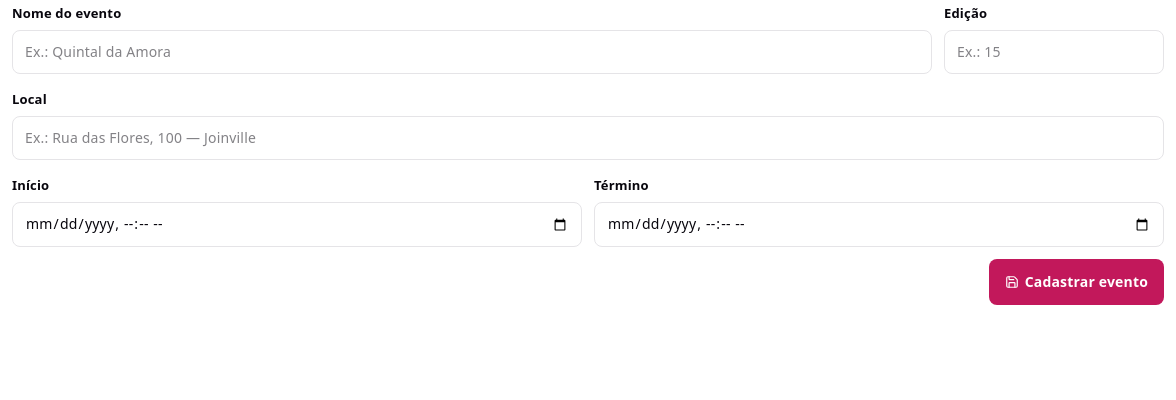
EventForm › cadastra o evento quando ainda não existe nenhum
Type "  Quintal da Amora " into the field labelled "Nome do evento". click: (472, 52)
box: left=12, top=30, right=932, bottom=74
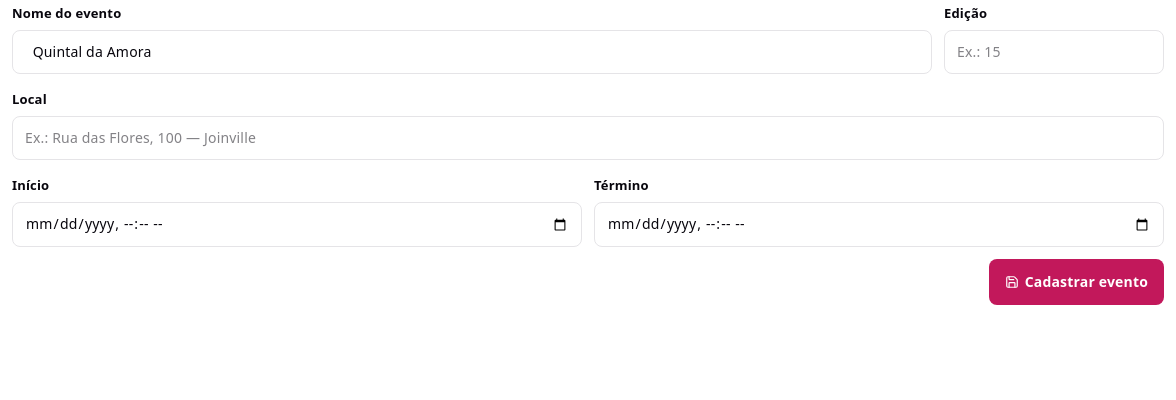
Type "2026-11-21T10:00" into the field labelled "Início". click: (297, 225)
box: left=12, top=202, right=582, bottom=247
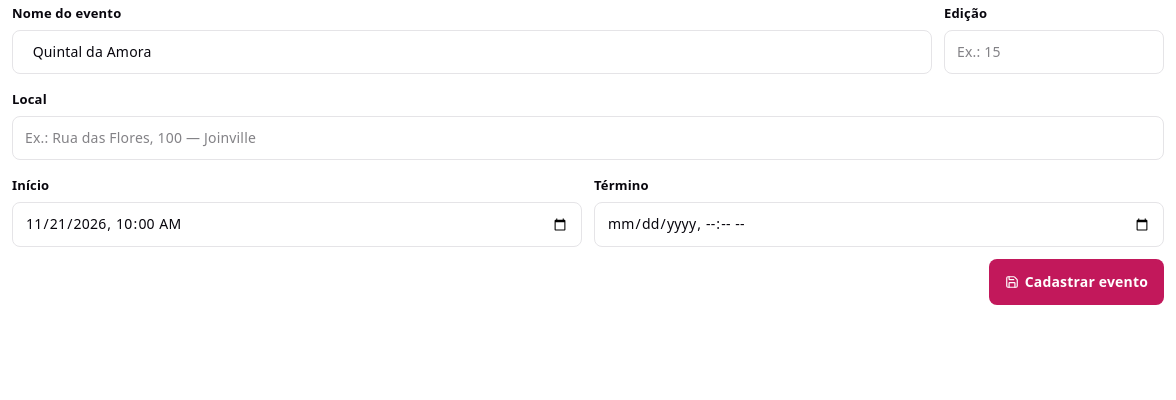
Type "2026-11-21T20:00" into the field labelled "Término". click: (879, 225)
box: left=594, top=202, right=1164, bottom=247
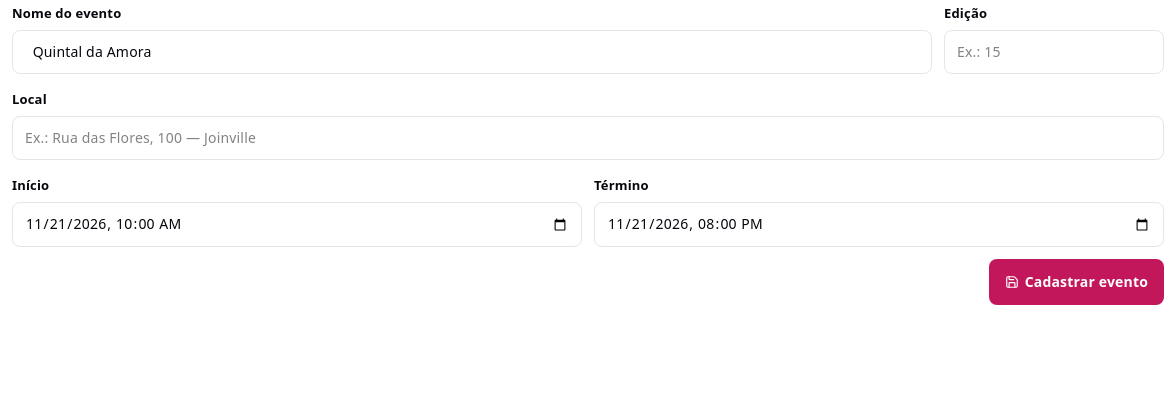
Click the button "Cadastrar evento". click: (1077, 282)
box: left=989, top=259, right=1164, bottom=305
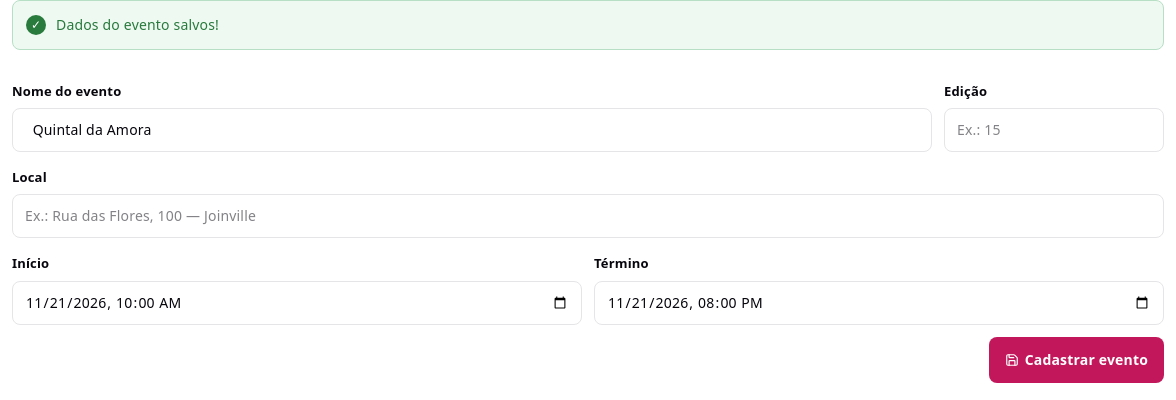
Expected: the message shows "Dados do evento salvos!", left=56, top=15, right=219, bottom=34
